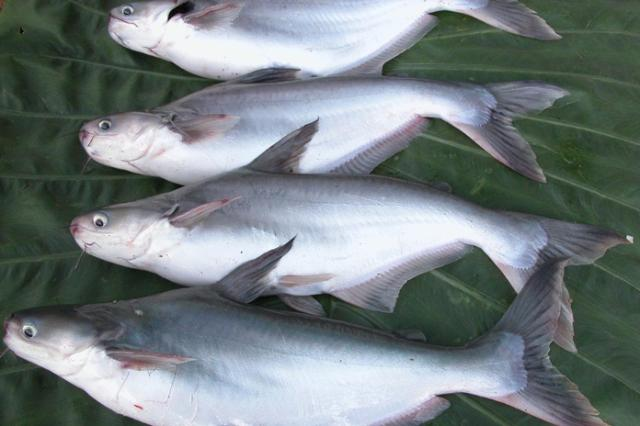Mulut: (52, 198, 106, 266), (1, 308, 44, 374), (66, 109, 108, 171), (100, 1, 144, 34)
Sirip Anal: (328, 223, 482, 325), (326, 104, 442, 192), (326, 3, 446, 86)
Sirip Dada: (88, 324, 210, 374), (171, 0, 261, 54), (156, 192, 264, 236), (158, 96, 246, 142)
Sirip Ekor: (480, 198, 640, 368), (473, 245, 616, 426), (456, 71, 582, 187)
Sirip Perut: (264, 254, 346, 324)
Sirip Punggung: (203, 234, 304, 314), (240, 106, 328, 190), (216, 44, 312, 98)
